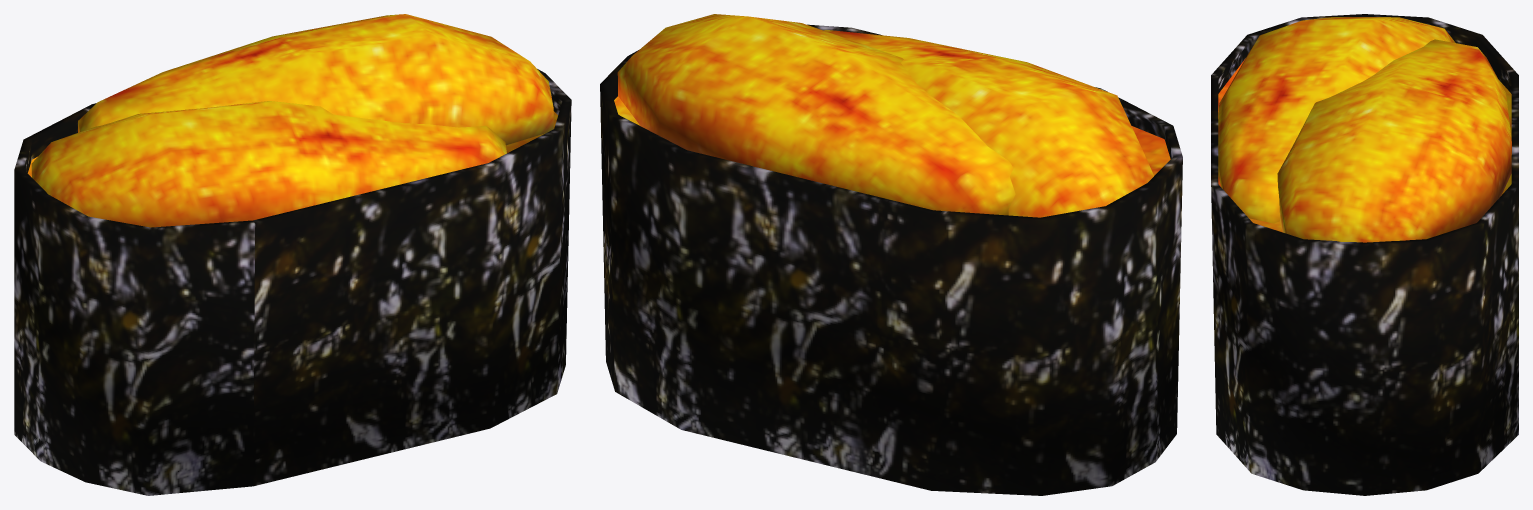
File: sea_urchin.fbx
3 views of the same model, side by side, from view 1: azimuth 30°, elevation 25°; view 2: azimuth 150°, elevation 25°; view 3: azimuth 270°, elevation 25° (orthographic). The views are drawn at different scales.
Parts seen in each view (by area): view 1: sea_urchin; view 2: sea_urchin; view 3: sea_urchin.
Boxes of the visible parts, box(x1,y1,x2,y2) form: sea_urchin: box(14, 14, 571, 495); sea_urchin: box(600, 14, 1182, 495); sea_urchin: box(1211, 14, 1518, 495).
Bounding box in the file's own units: 5.61 × 3.51 × 3.14.
